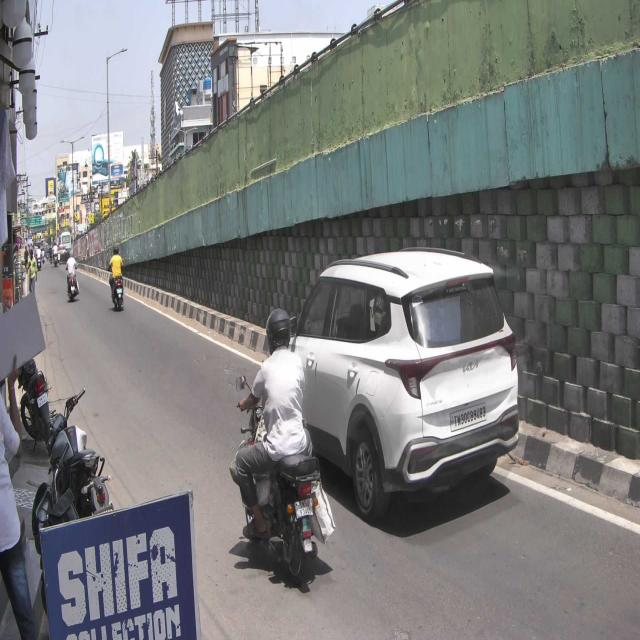single_rider: (233, 304, 329, 581)
